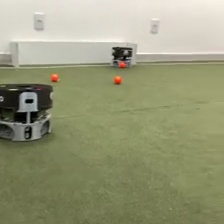ball: (113, 74, 122, 84), (50, 72, 59, 82), (118, 60, 126, 68)
goal: (8, 39, 137, 68)
robot: (1, 81, 55, 144), (111, 45, 134, 68)
